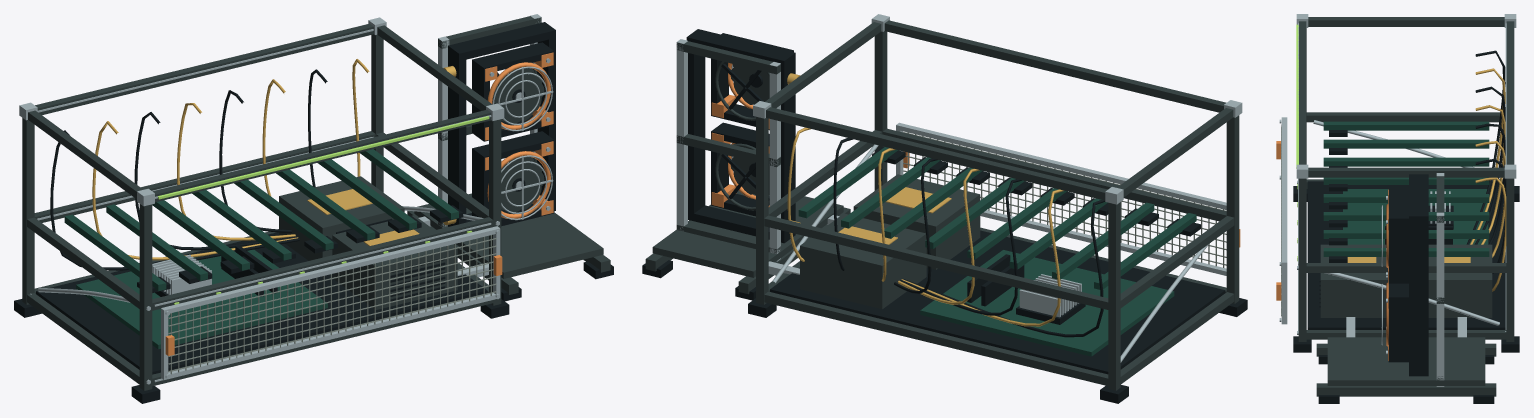
Rendered from rig-8-frame-filtered-air.glb.
The picture shows the model from 3 angles, left to right: view 1: azimuth 30°, elevation 25°; view 2: azimuth 150°, elevation 25°; view 3: azimuth 270°, elevation 25°; orthographic projection. The views are drawn at different scales.
Parts seen in each view (by area): view 1: Anodized graphite (×4), Rubber and ABS (×4), Circuit board, Brushed aluminium (×5), Filter fibres, Industrial orange (×2), rig-8-frame-filtered-air, Contacts, slot-cable-1, slot-cable-2, slot-cable-3, slot-cable-4 (+1 smaller); view 2: Anodized graphite (×3), Rubber and ABS (×4), Circuit board, Brushed aluminium (×3), Filter fibres, Contacts, slot-cable-1, slot-cable-2, slot-cable-3, slot-cable-4, Industrial orange, slot-cable-5; view 3: Anodized graphite (×2), Rubber and ABS (×5), Circuit board, Brushed aluminium (×3), slot-cable-1, slot-cable-2, rig-8-frame-filtered-air, slot-cable-3, slot-cable-4, slot-cable-8, slot-cable-5, Contacts (+1 smaller).
Boxes of the visible parts, <box> form: Anodized graphite (×4): <box>22,16,610,390</box>; Rubber and ABS (×4): <box>14,22,555,403</box>; Circuit board: <box>64,149,458,349</box>; Brushed aluminium (×5): <box>19,14,553,384</box>; Filter fibres: <box>168,235,496,374</box>; Industrial orange (×2): <box>485,52,553,218</box>; rig-8-frame-filtered-air: <box>158,116,489,199</box>; Contacts: <box>307,189,419,246</box>; slot-cable-1: <box>50,130,299,270</box>; slot-cable-2: <box>92,121,298,260</box>; slot-cable-3: <box>134,112,297,250</box>; slot-cable-4: <box>177,103,295,240</box>; Anodized graphite (×3): <box>645,20,1239,390</box>; Rubber and ABS (×4): <box>686,29,1247,403</box>; Circuit board: <box>798,147,1196,356</box>; Brushed aluminium (×3): <box>676,14,1242,362</box>; Filter fibres: <box>903,132,1226,267</box>; Contacts: <box>838,187,951,244</box>; slot-cable-1: <box>902,200,1105,337</box>; slot-cable-2: <box>901,189,1063,326</box>; slot-cable-3: <box>900,179,1021,315</box>; slot-cable-4: <box>898,168,979,304</box>; Industrial orange: <box>711,132,769,207</box>; slot-cable-5: <box>894,158,937,293</box>; Anodized graphite (×2): <box>1298,17,1514,396</box>; Rubber and ABS (×5): <box>1293,130,1519,403</box>; Circuit board: <box>1323,121,1489,256</box>; Brushed aluminium (×3): <box>1281,14,1516,386</box>; slot-cable-1: <box>1466,50,1505,244</box>; slot-cable-2: <box>1470,68,1505,244</box>; rig-8-frame-filtered-air: <box>1296,24,1298,168</box>; slot-cable-3: <box>1474,86,1505,244</box>; slot-cable-4: <box>1475,105,1505,244</box>; slot-cable-8: <box>1475,177,1506,291</box>; slot-cable-5: <box>1475,123,1505,244</box>; Contacts: <box>1347,257,1470,262</box>.
Size of the model in its own units: 8.02 by 3.32 by 3.94.
